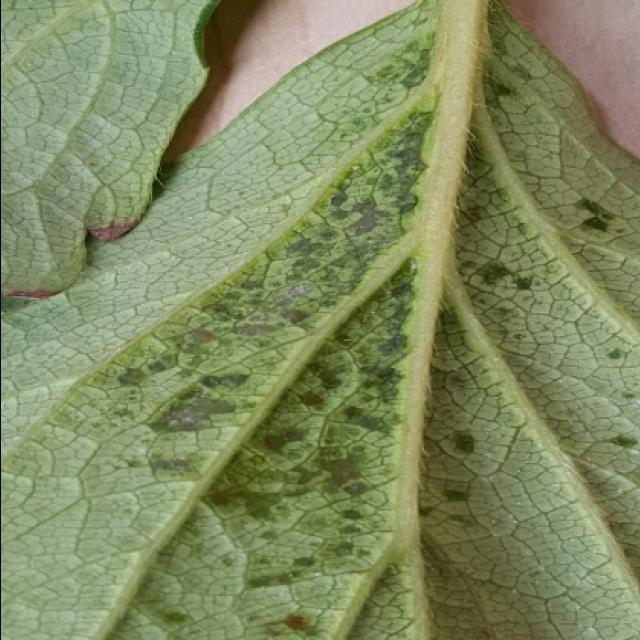Angular Leafspot: (67, 4, 639, 638)
